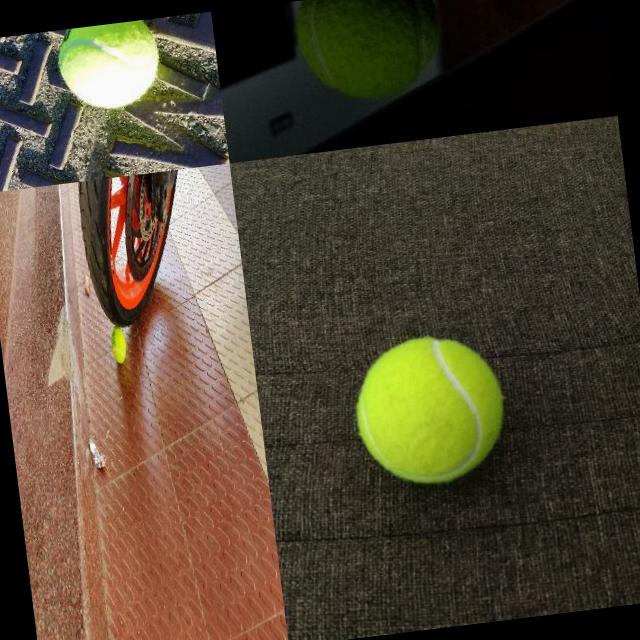Tennis Ball: (346, 328, 511, 491), (52, 18, 164, 115), (110, 327, 128, 363)
